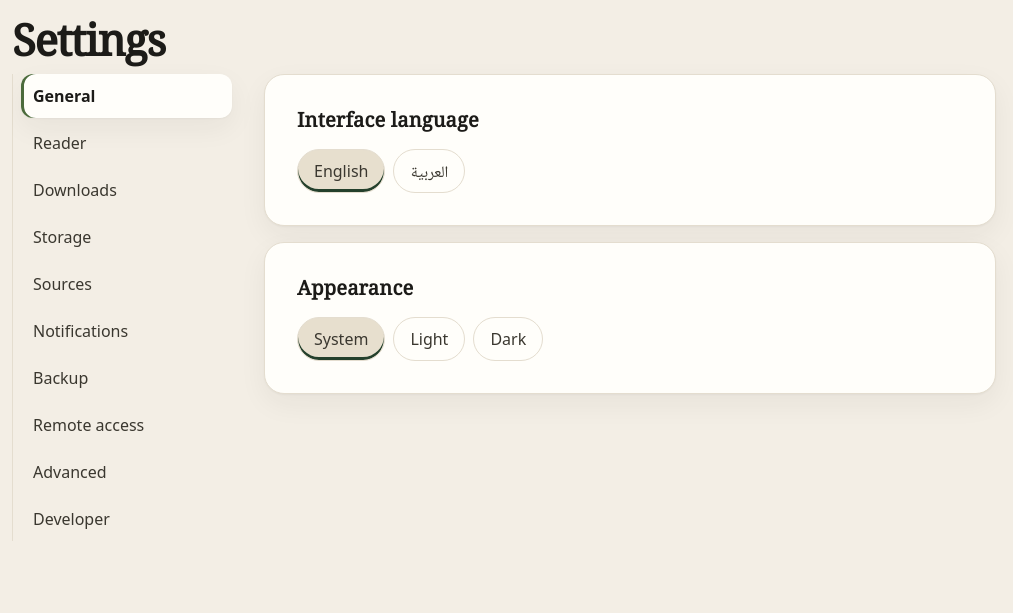
Test: Settings › keeps developer tools out of the way until asked
The width and height of the screenshot is (1013, 613).
Check: the element named "settings" is shown, box [12,74,232,542]
Check: the text "adapter generator" is not shown
Click the tab "Developer": (126, 520) [21,498,232,542]
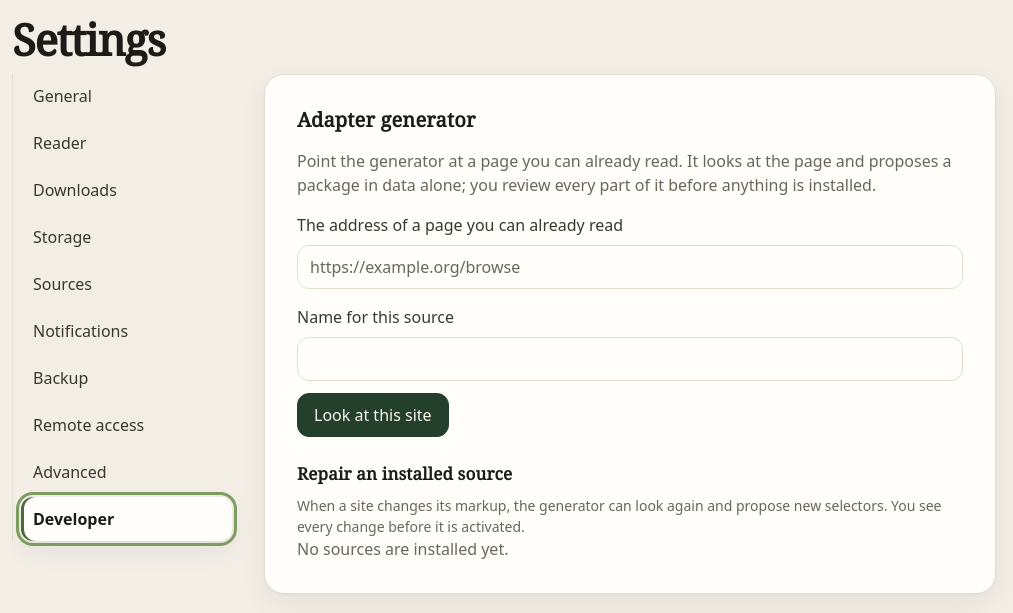
Check: the heading "Adapter generator" is shown, box [297,106,476,134]
